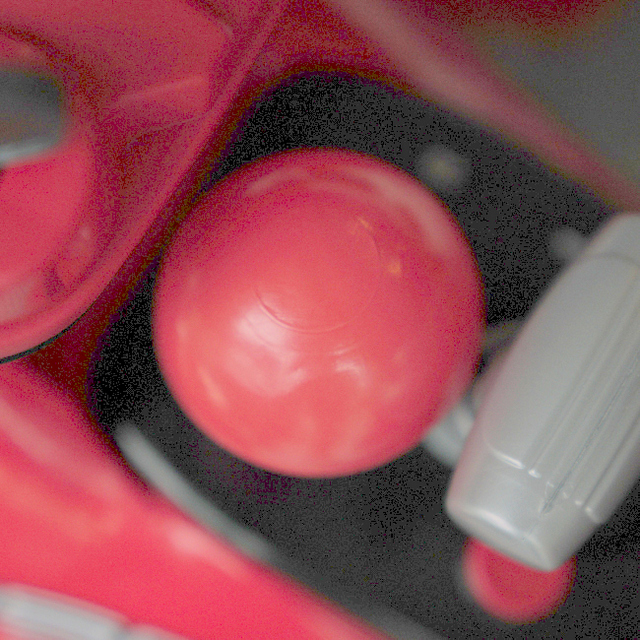Ball: (157, 146, 484, 472)
